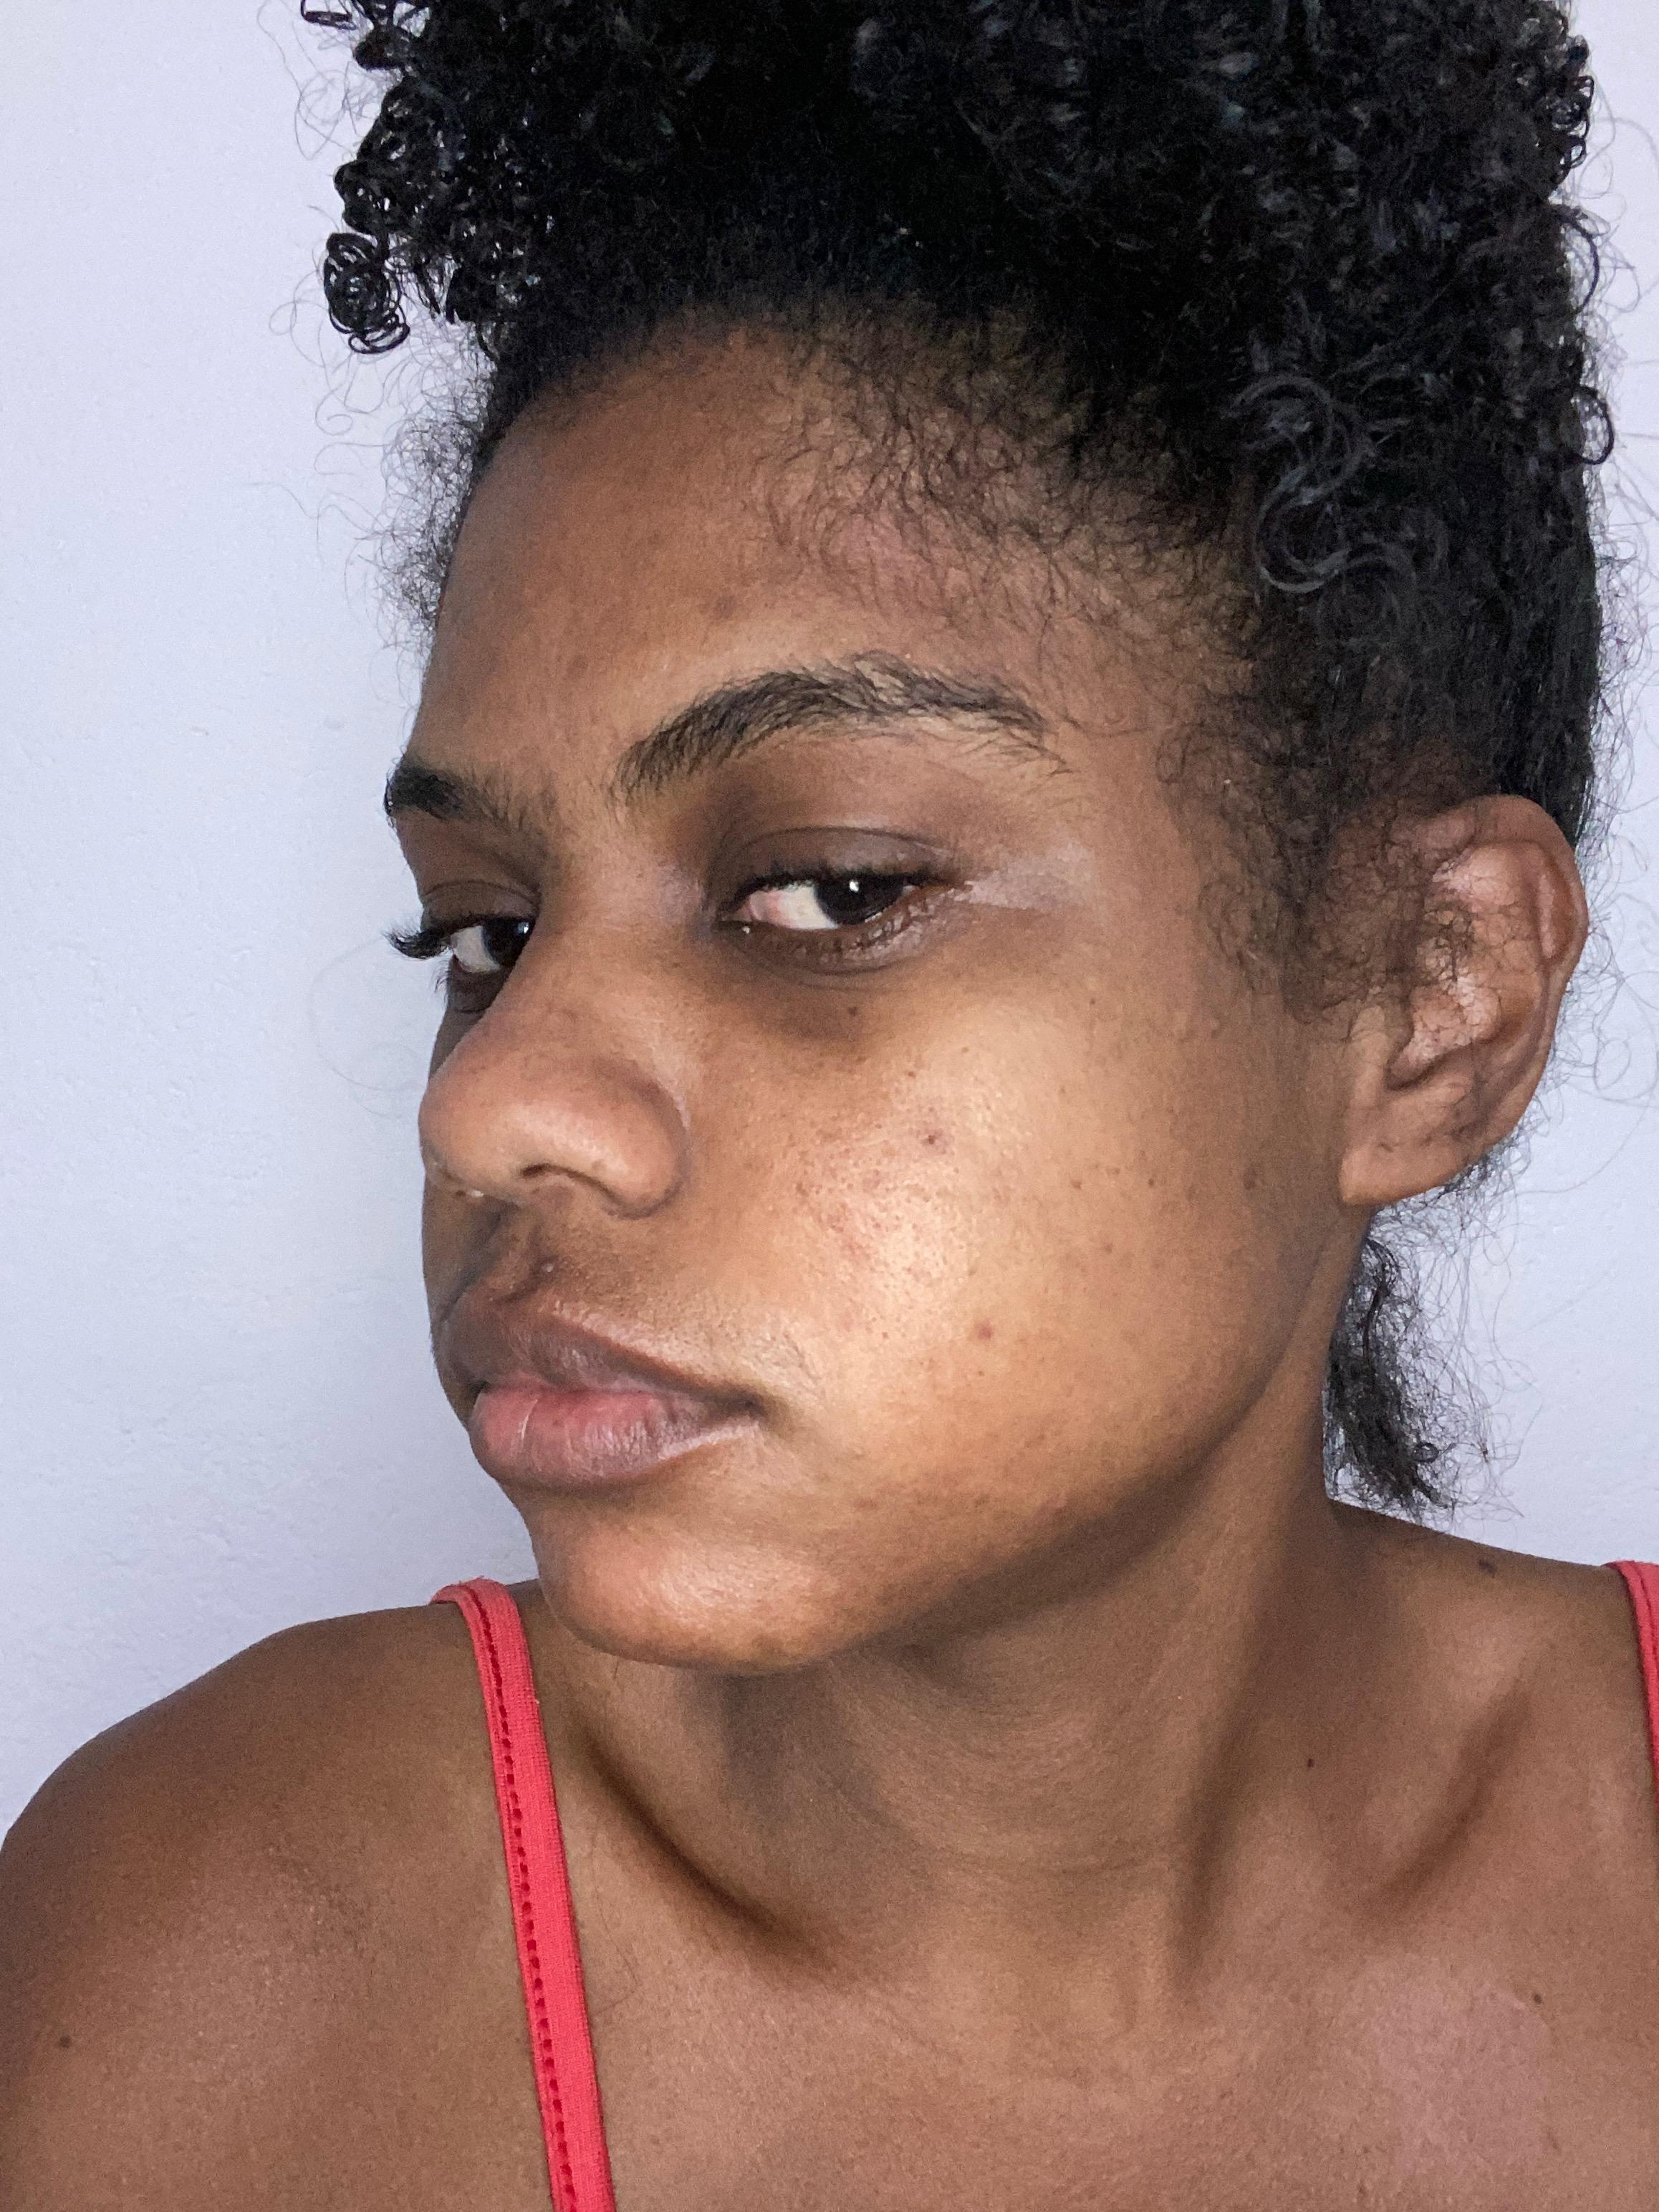Acne: (737, 1629, 789, 1669), (702, 583, 746, 627), (1032, 1491, 1075, 1521), (556, 650, 594, 683), (1234, 1160, 1265, 1198), (967, 1318, 1002, 1352), (532, 1251, 565, 1284), (845, 1489, 885, 1515), (917, 1122, 950, 1151), (1201, 1014, 1227, 1040)
Englarged-Pores: (775, 1104, 992, 1305)
Eyebags: (673, 927, 955, 1055)
